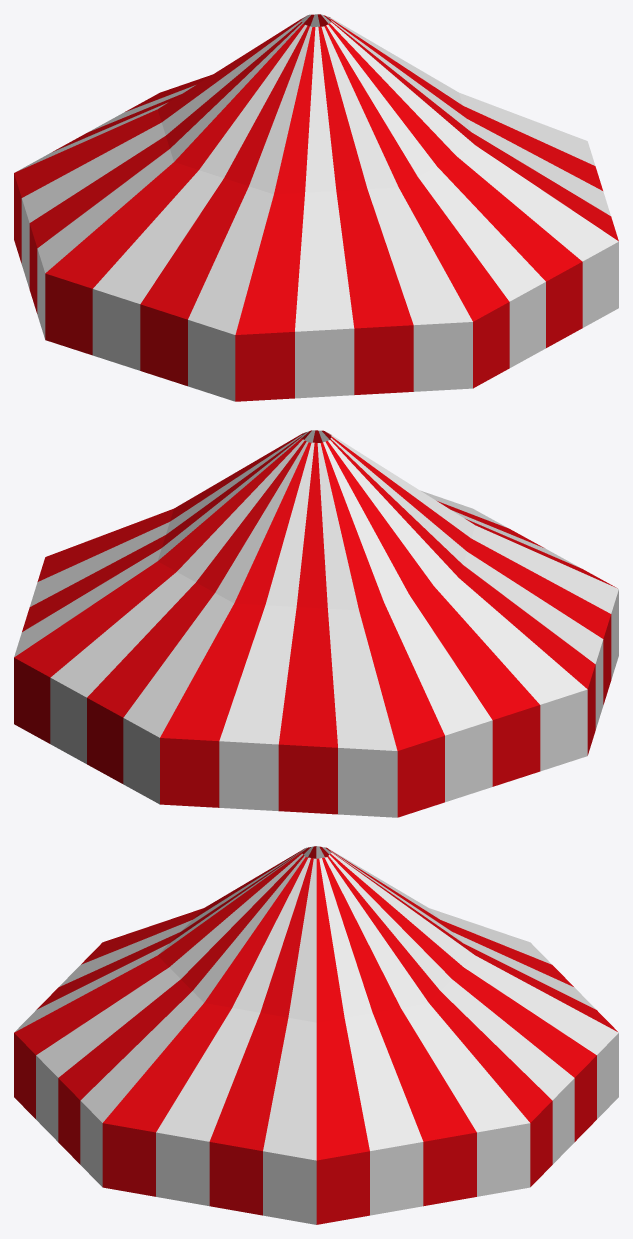
File: CarnivalTent.fbx
3 views of the same model, one above another, from view 1: azimuth 30°, elevation 25°; view 2: azimuth 150°, elevation 25°; view 3: azimuth 270°, elevation 25° (orthographic). The views are drawn at different scales.
Visible parts, largest first — view 1: Cylinder.001; view 2: Cylinder.001; view 3: Cylinder.001.
Boxes of the visible parts, x1,y1,x2,y2 form: Cylinder.001: (14, 14, 618, 401); Cylinder.001: (14, 430, 618, 817); Cylinder.001: (14, 846, 618, 1224).
Bounding box in the file's own units: 42.58 × 19 × 42.58.
